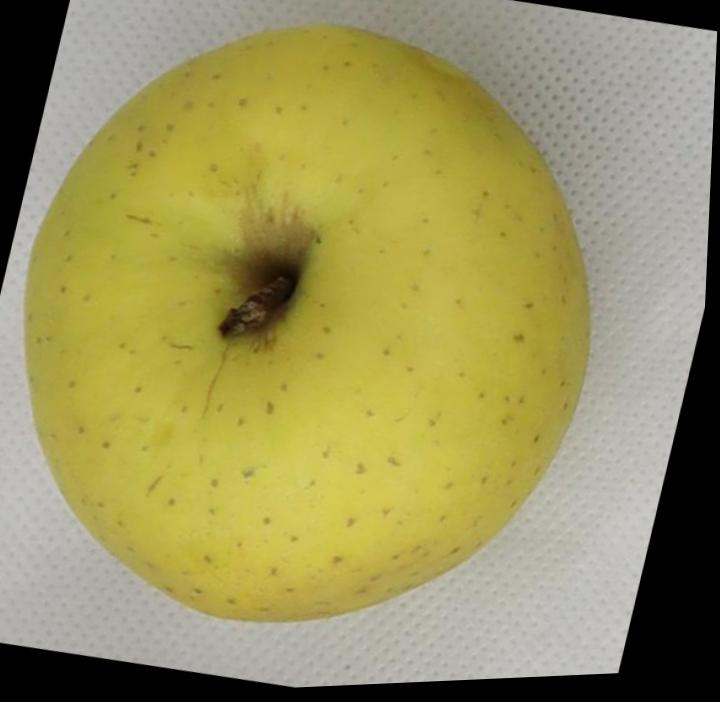apple: (25, 24, 589, 620)
